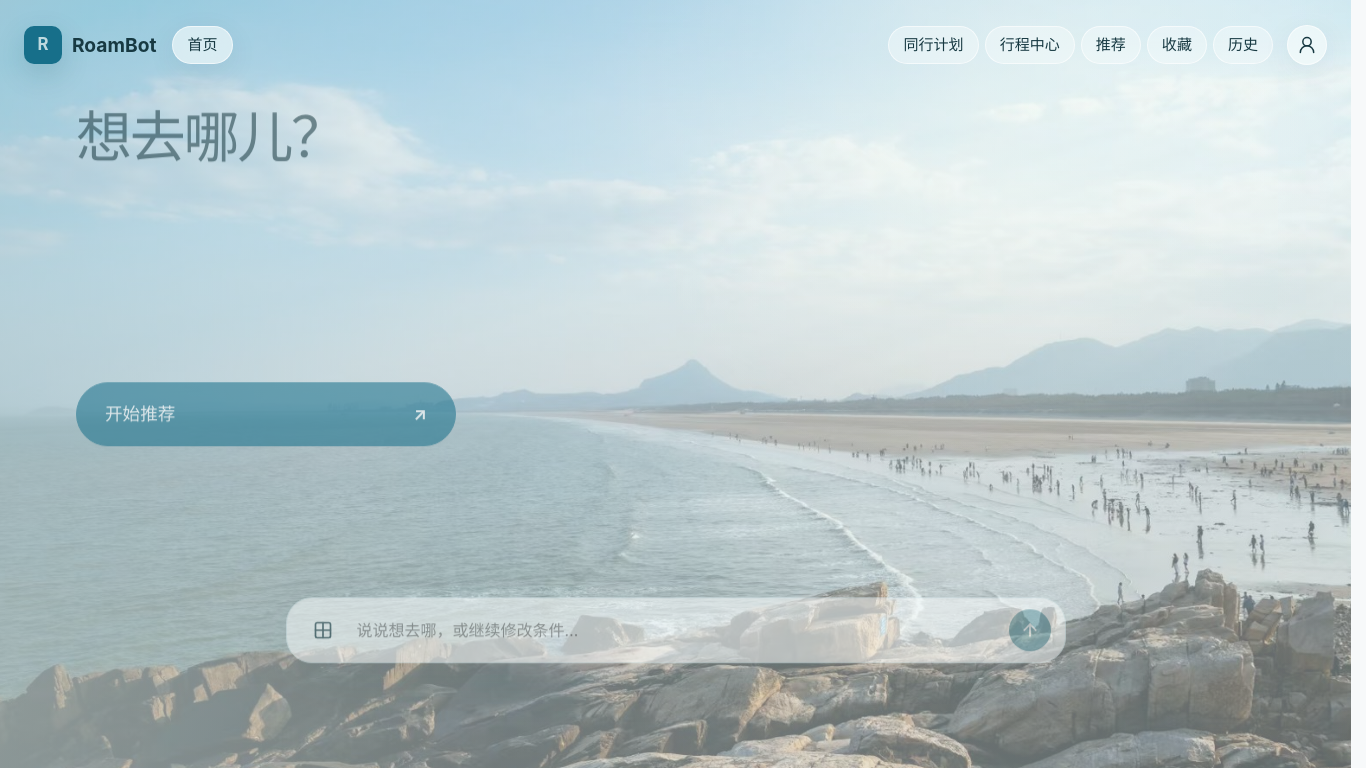
it: progressive SearchWorkspace business regression › validates missing conditions without HTTP
The image size is (1366, 768).
What coordinates should you click on to do the following:
click the button "开始推荐 ↗"
I would click on:
 (140, 482)
Its box is top-left (76, 450), bottom-right (456, 514).
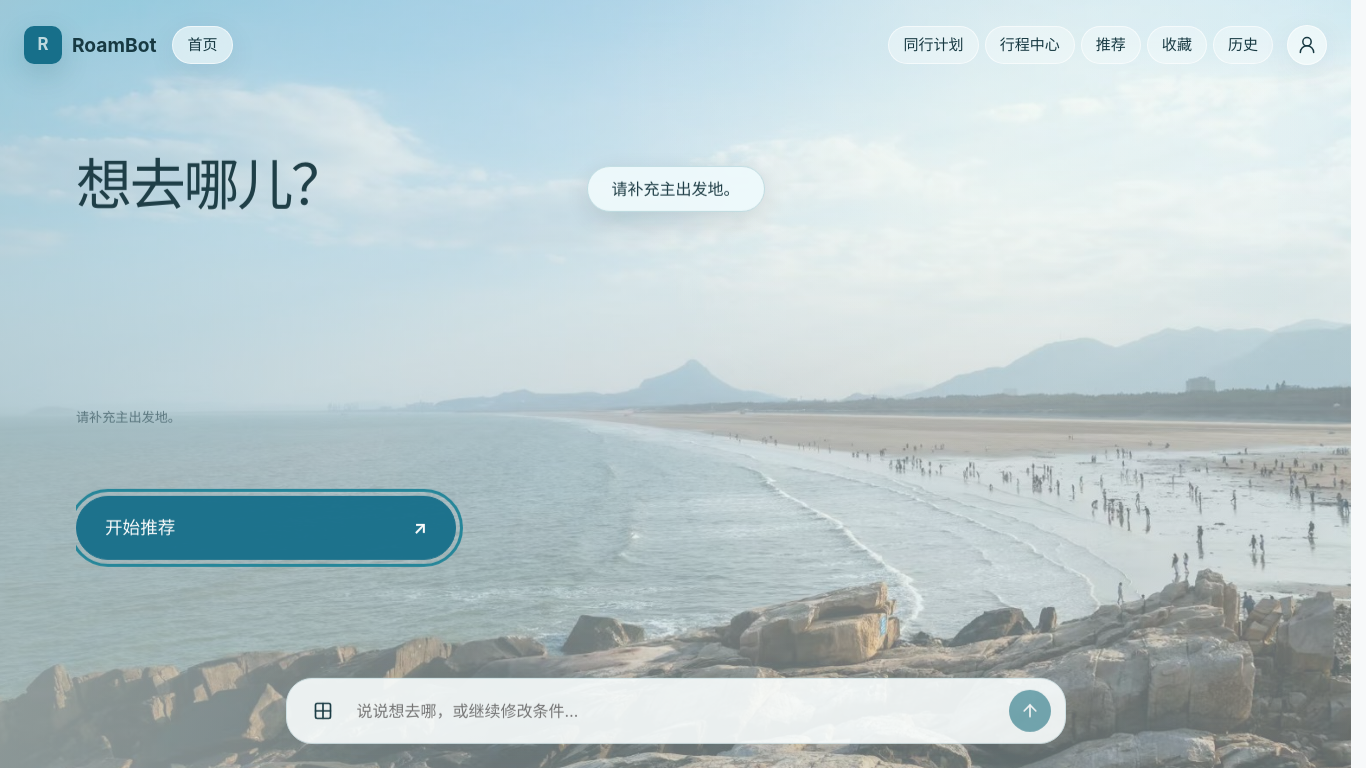
expect the message shows "请补充主出发地": met, box top-left (612, 186), bottom-right (740, 206)
